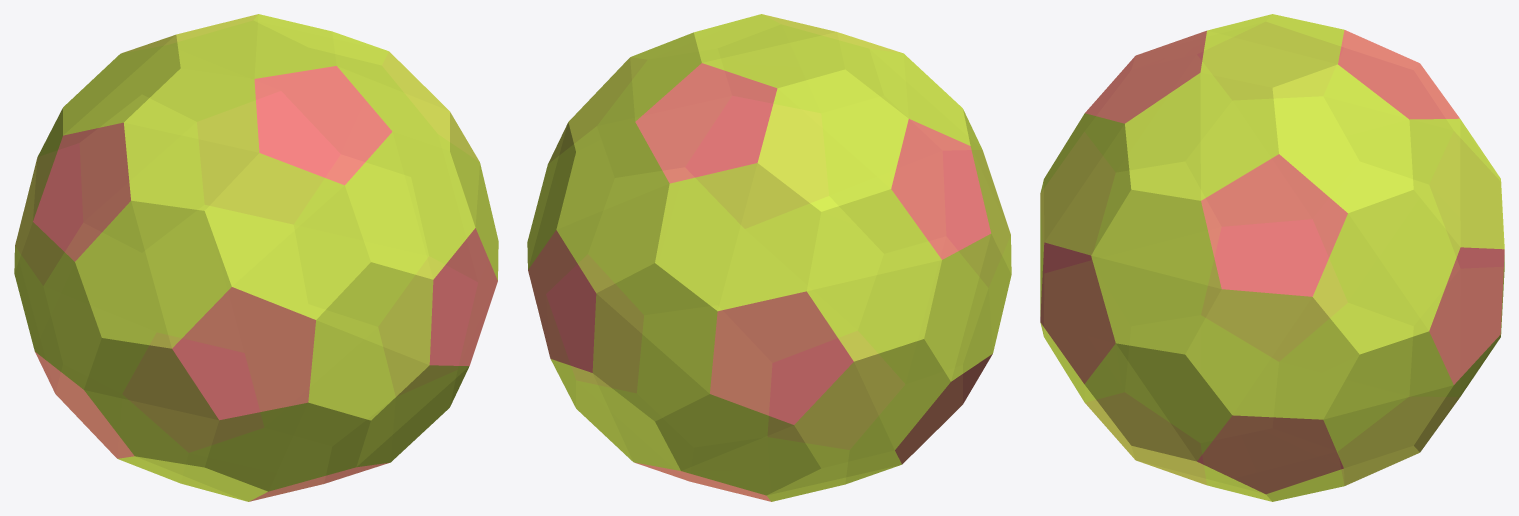
The model's file is BiscribedPropelloDodecahedron.obj.
3 views of the same model, side by side, from view 1: azimuth 30°, elevation 25°; view 2: azimuth 150°, elevation 25°; view 3: azimuth 270°, elevation 25° (orthographic).
Size of the model in its own units: 2 by 2 by 2.
